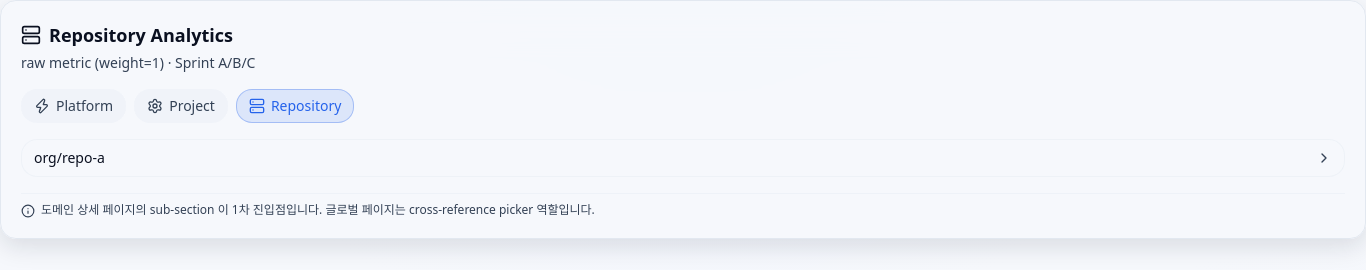
it: DomainPicker › switches to Platform scope → entity link with /platforms/[id] href (Sprint C ready=true, no '예정' badge)
Click the tab with test id "domain-picker-scope-platform". click: (74, 106)
box: left=21, top=89, right=126, bottom=123
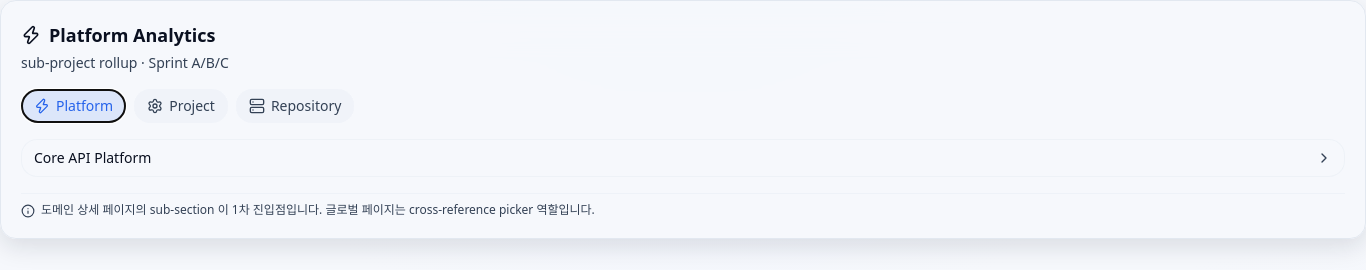
Now the heading "Platform Analytics" is shown, box left=21, top=23, right=216, bottom=47
Now the link with test id "domain-picker-entity-1" is gone
